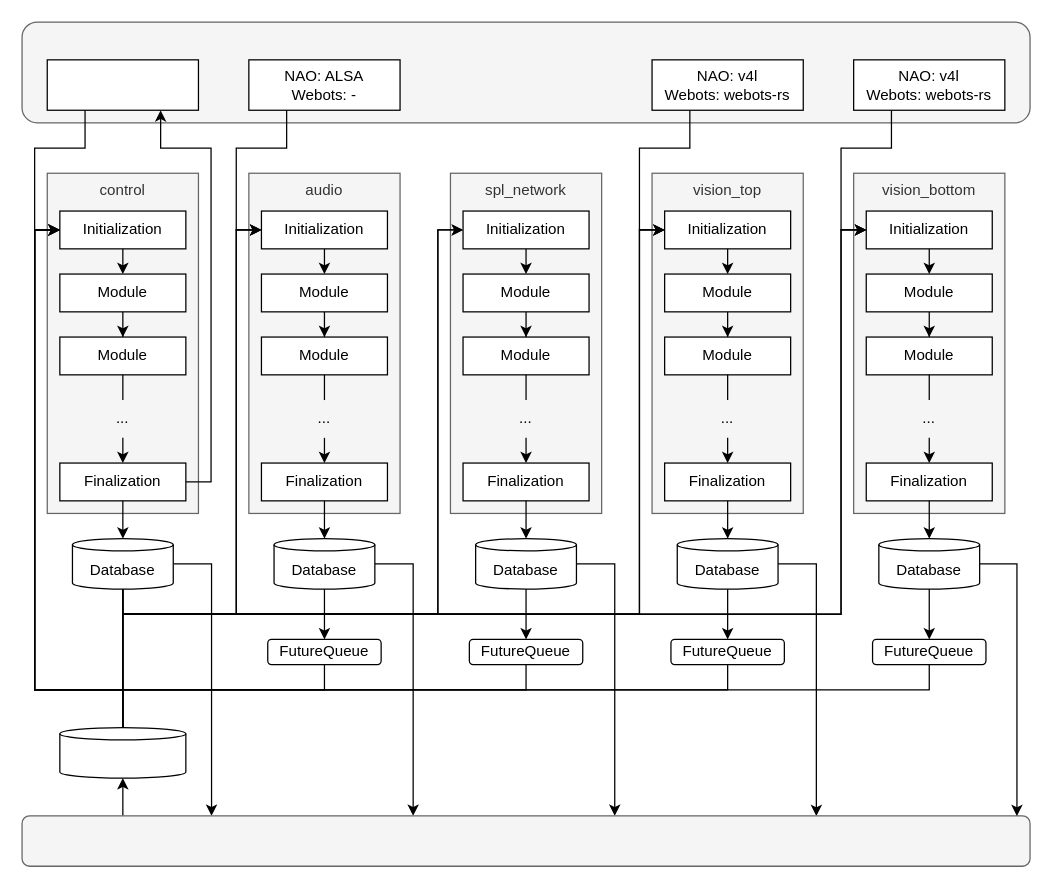
This 1052x888 diagram has some shape labels left out. Each missing label, with the box of its shape:
Communication: (21, 815, 1030, 866)
Configuration: (59, 726, 186, 778)
HardwareInterface: (21, 21, 1030, 123)
NAO: HULA/LoLA Webots: webots-rs: (46, 59, 198, 110)
